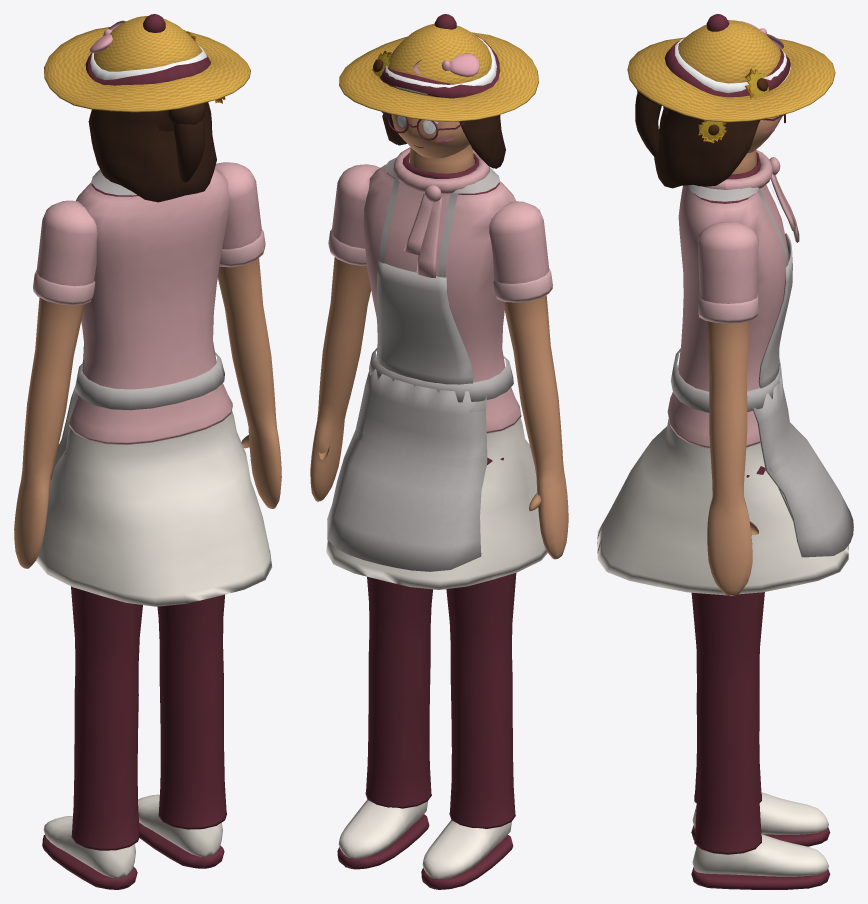
Rendered from player_wardrobe_female.glb.
3 renders of one model, left to right at view 1: azimuth 30°, elevation 25°; view 2: azimuth 150°, elevation 25°; view 3: azimuth 270°, elevation 25°, orthographic. The views are drawn at different scales.
Visible parts, largest first — view 1: Skirt_Cloth, Body_Tee, LegL_Pants, LegR_Pants, ArmL_Skin, ArmR_Skin, Hat_Sun_Brim, Hair_Wavy_Back, ArmL_Sleeve, Hat_Sun_Crown, Apron_Band, ArmR_Sleeve (+11 smaller); view 2: Apron_LapSkirt, LegL_Pants, Body_Tee, LegR_Pants, Skirt_Cloth, ArmL_Skin, Apron_Bib, ArmR_Skin, Hat_Sun_Brim, ArmL_Sleeve, Hat_Sun_Crown, Acc_Scarf (+17 smaller); view 3: Skirt_Cloth, LegR_Pants, Body_Tee, ArmR_Skin, Hat_Sun_Brim, Apron_LapSkirt, ArmR_Sleeve, Hat_Sun_Crown, LegR_Shoe, Hair_Wavy_SideR, Hair_Wavy_Back, LegL_Shoe (+10 smaller).
Part boxes in pixels (x1,y1,x2,y2): Skirt_Cloth: (36, 411, 272, 606); Body_Tee: (69, 168, 232, 444); LegL_Pants: (64, 452, 142, 850); LegR_Pants: (157, 594, 226, 829); ArmL_Skin: (14, 297, 84, 568); ArmR_Skin: (218, 258, 281, 508); Hat_Sun_Brim: (44, 27, 250, 112); Hair_Wavy_Back: (119, 102, 216, 202); ArmL_Sleeve: (36, 200, 97, 286); Hat_Sun_Crown: (94, 16, 201, 71); Apron_Band: (75, 352, 224, 410); ArmR_Sleeve: (215, 162, 261, 249); Apron_LapSkirt: (327, 368, 487, 571); LegL_Pants: (446, 457, 516, 828); Body_Tee: (363, 157, 521, 433); LegR_Pants: (365, 576, 432, 808); Skirt_Cloth: (326, 418, 547, 589); ArmL_Skin: (503, 295, 568, 559); Apron_Bib: (376, 261, 473, 384); ArmR_Skin: (310, 257, 371, 501); Hat_Sun_Brim: (339, 32, 538, 121); ArmL_Sleeve: (489, 201, 549, 283); Hat_Sun_Crown: (388, 23, 491, 97); Acc_Scarf: (393, 147, 489, 277); Skirt_Cloth: (597, 419, 848, 595); LegR_Pants: (691, 466, 765, 854); Body_Tee: (667, 160, 788, 448); ArmR_Skin: (706, 321, 758, 596); Hat_Sun_Brim: (627, 37, 835, 122); Apron_LapSkirt: (753, 371, 853, 557); ArmR_Sleeve: (698, 221, 758, 303); Hat_Sun_Crown: (678, 20, 788, 83); LegR_Shoe: (692, 834, 828, 876); Hair_Wavy_SideR: (692, 118, 751, 186); Hair_Wavy_Back: (654, 109, 695, 188); LegL_Shoe: (692, 792, 828, 834).
Size of the model in its own units: 0.5097 by 1.62 by 0.4454.
Materials: 26 (26 with a texture image).
